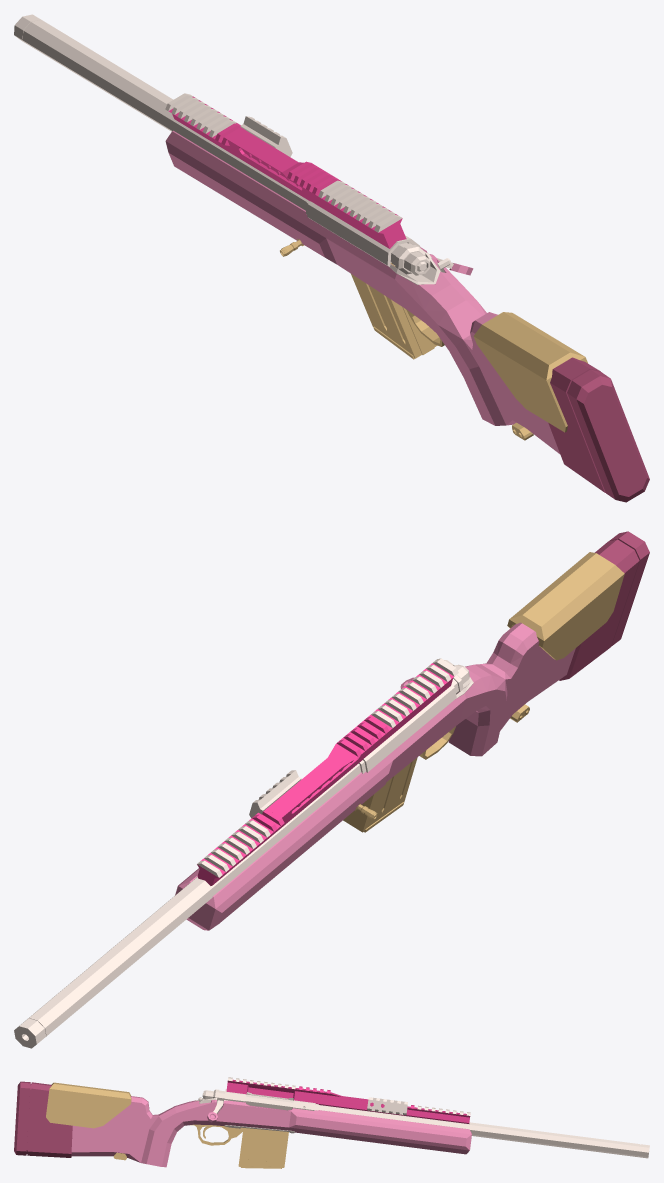
The model's file is Sniper_M700.obj.
The picture shows the model from 3 angles, top to bottom: view 1: azimuth 30°, elevation 25°; view 2: azimuth 150°, elevation 25°; view 3: azimuth 270°, elevation 25°; orthographic projection. The views are drawn at different scales.
Visible parts, largest first — view 1: Body, Panel, Grip, Bolt, Accent, Hardware; view 2: Body, Panel, Bolt, Accent, Grip, Hardware; view 3: Body, Panel, Grip, Bolt, Accent, Hardware.
Boxes of the visible parts, <box> form: Body: <box>165,130,560,454</box>; Panel: <box>14,14,453,284</box>; Grip: <box>548,357,649,502</box>; Bolt: <box>473,312,587,432</box>; Accent: <box>168,96,406,248</box>; Hardware: <box>280,238,533,440</box>; Body: <box>175,622,575,930</box>; Panel: <box>14,658,473,1048</box>; Bolt: <box>507,552,624,660</box>; Accent: <box>197,663,454,885</box>; Grip: <box>559,531,649,680</box>; Hardware: <box>343,704,529,832</box>; Body: <box>71,1096,471,1167</box>; Panel: <box>194,1077,649,1158</box>; Grip: <box>14,1081,72,1157</box>; Bolt: <box>46,1082,131,1128</box>; Accent: <box>226,1079,470,1123</box>; Hardware: <box>113,1124,288,1168</box>.
Size of the model in its own units: 0.3165 by 0.5652 by 4.
